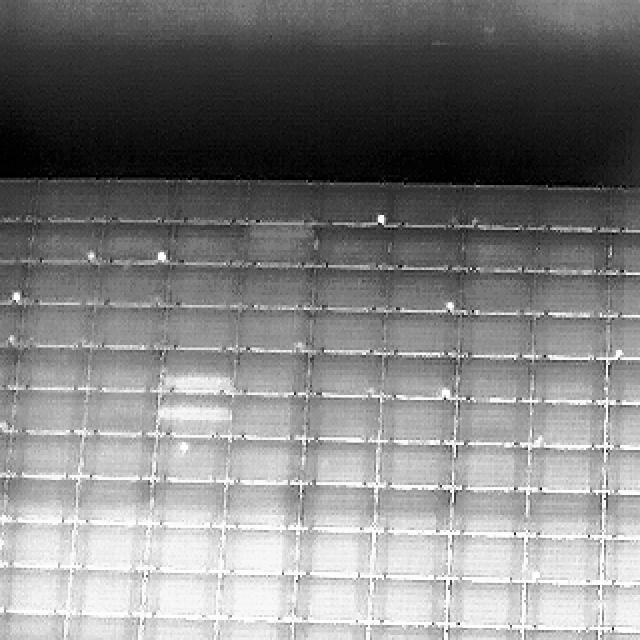Hotspots: (148, 245, 169, 268), (446, 294, 462, 316), (176, 439, 194, 458), (613, 345, 628, 361), (437, 384, 452, 399), (529, 567, 543, 583), (9, 286, 21, 304), (86, 249, 98, 263), (377, 214, 388, 228)
PV-modules: (21, 262, 108, 308), (167, 180, 252, 227), (298, 529, 376, 580), (369, 575, 448, 625), (2, 428, 81, 478), (290, 572, 370, 621), (375, 486, 452, 536), (445, 578, 523, 627), (372, 533, 450, 582), (457, 398, 533, 448), (529, 270, 608, 318), (166, 220, 250, 265), (75, 478, 152, 527), (452, 487, 532, 534), (298, 485, 376, 533), (448, 536, 526, 584), (380, 398, 458, 446), (522, 537, 600, 585), (10, 390, 87, 438), (147, 527, 224, 575), (14, 306, 98, 350), (521, 581, 599, 628), (223, 483, 301, 530), (461, 188, 544, 232), (220, 529, 296, 577), (154, 435, 230, 483), (69, 564, 143, 613), (228, 437, 305, 484), (529, 402, 606, 449), (527, 490, 604, 537), (459, 268, 534, 316), (457, 226, 535, 272), (30, 178, 108, 224), (217, 570, 293, 617), (530, 357, 606, 404), (454, 356, 530, 403), (230, 348, 306, 395), (163, 266, 244, 310), (142, 570, 219, 616), (527, 449, 604, 495), (534, 230, 611, 276), (0, 478, 77, 524), (384, 186, 464, 230), (306, 351, 384, 396), (310, 312, 386, 358), (150, 482, 226, 528), (385, 310, 461, 356), (382, 353, 458, 399), (71, 526, 147, 572), (80, 433, 155, 479), (304, 397, 379, 443), (90, 346, 165, 392), (163, 348, 238, 394), (164, 308, 242, 352), (386, 224, 464, 268), (86, 392, 159, 439), (2, 565, 72, 614), (457, 446, 532, 491), (538, 187, 613, 232), (2, 524, 75, 570), (237, 310, 310, 356), (315, 220, 388, 266), (377, 446, 453, 490), (529, 318, 608, 360), (12, 346, 89, 389), (229, 396, 305, 439), (311, 268, 387, 311), (303, 440, 377, 484), (102, 180, 176, 224), (30, 219, 107, 261), (457, 317, 530, 361), (389, 269, 465, 311), (249, 181, 318, 227), (156, 396, 231, 438), (95, 307, 165, 352), (106, 264, 171, 309), (250, 221, 318, 264), (247, 266, 316, 308), (104, 220, 170, 262), (321, 184, 385, 227), (62, 612, 142, 640), (0, 224, 27, 306), (598, 582, 640, 630), (136, 615, 214, 640), (600, 450, 640, 498), (600, 537, 640, 585), (2, 610, 66, 640), (214, 615, 288, 640), (602, 490, 640, 538), (602, 405, 640, 450), (0, 180, 37, 224), (288, 620, 368, 640), (604, 358, 640, 402), (606, 272, 640, 318), (608, 318, 640, 362), (366, 622, 444, 640), (0, 219, 33, 261), (608, 233, 640, 275), (612, 188, 640, 232), (444, 625, 522, 640), (518, 627, 596, 640), (0, 262, 23, 305), (0, 303, 17, 352), (0, 341, 16, 388), (598, 625, 640, 640)
